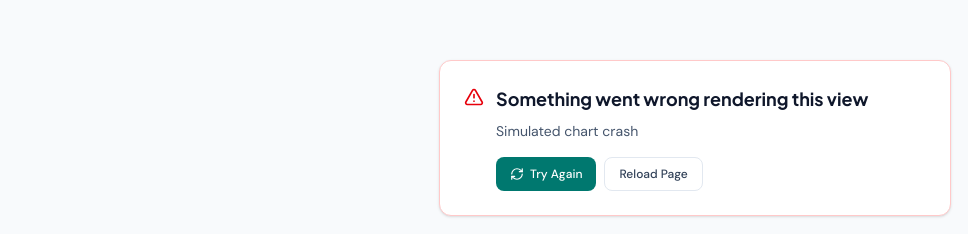
Test: ErrorBoundary › renders accessible recovery UI when a child throws and recovers on Try Again
expect the message shows "Something went wrong rendering this view": met, box [496,87,868,110]
expect the text "Simulated chart crash" is shown: met, box [496,122,638,140]
Step 1. Click the button "Try Again" → {"x": 546, "y": 174}, box [496,157,596,191]
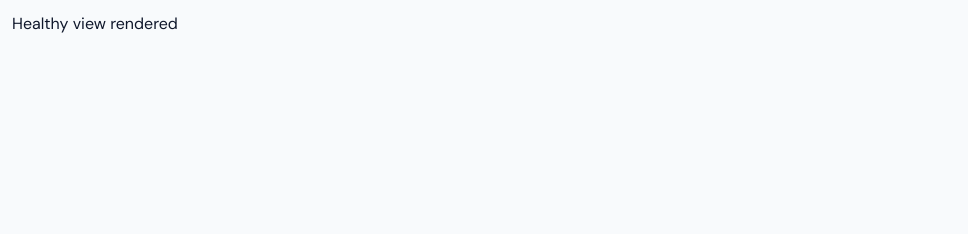
expect the text "Healthy view rendered" is shown: met, box [12,13,178,34]
